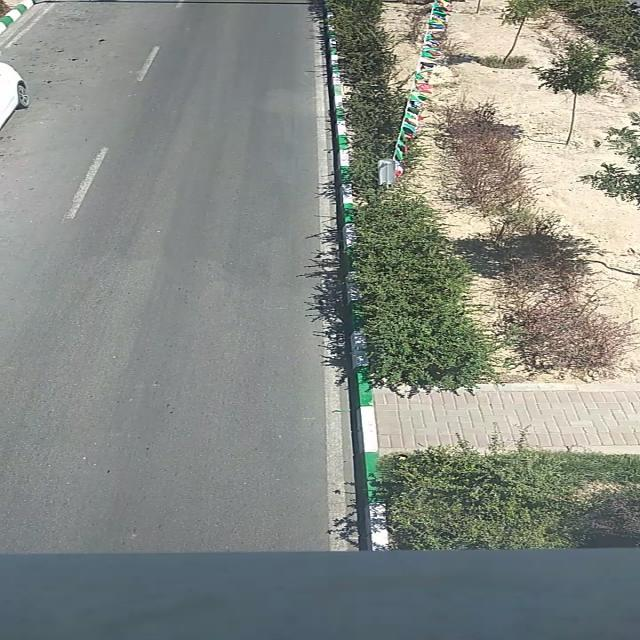car: (0, 60, 32, 140)
